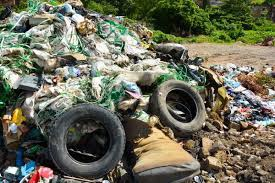tire: (46, 103, 126, 177), (150, 77, 207, 138)
